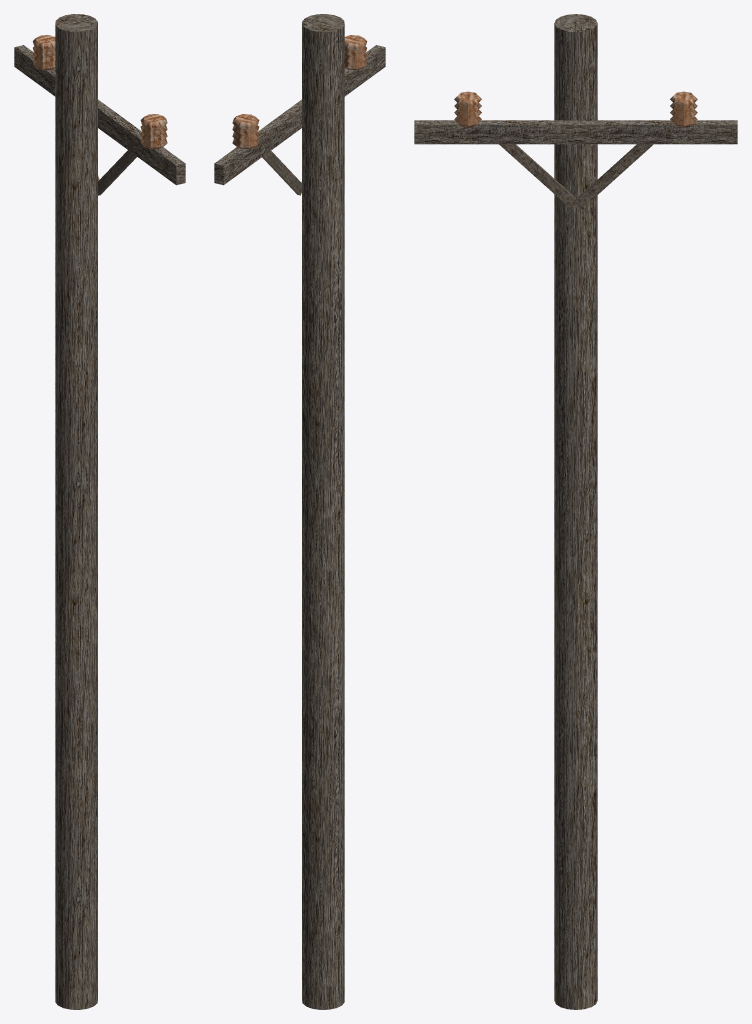
File: electric_pole.fbx
3 views of the same model, side by side, from view 1: azimuth 30°, elevation 25°; view 2: azimuth 150°, elevation 25°; view 3: azimuth 270°, elevation 25° (orthographic).
Visible parts, largest first — view 1: pole_whole, electric_cylinder_left, electric_cylinder_right; view 2: pole_whole, electric_cylinder_right, electric_cylinder_left; view 3: pole_whole, electric_cylinder_left, electric_cylinder_right.
Part boxes in pixels (x1,y1,x2,y2): pole_whole: (14, 14, 185, 1009); electric_cylinder_left: (140, 114, 167, 149); electric_cylinder_right: (32, 35, 55, 70); pole_whole: (214, 14, 385, 1009); electric_cylinder_right: (232, 114, 259, 149); electric_cylinder_left: (344, 35, 367, 70); pole_whole: (414, 14, 737, 1009); electric_cylinder_left: (454, 91, 481, 127); electric_cylinder_right: (670, 91, 697, 127).
Size of the model in its own units: 0.5814 by 10 by 3.
